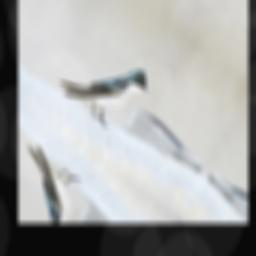Swallow: (53, 23, 155, 145)
